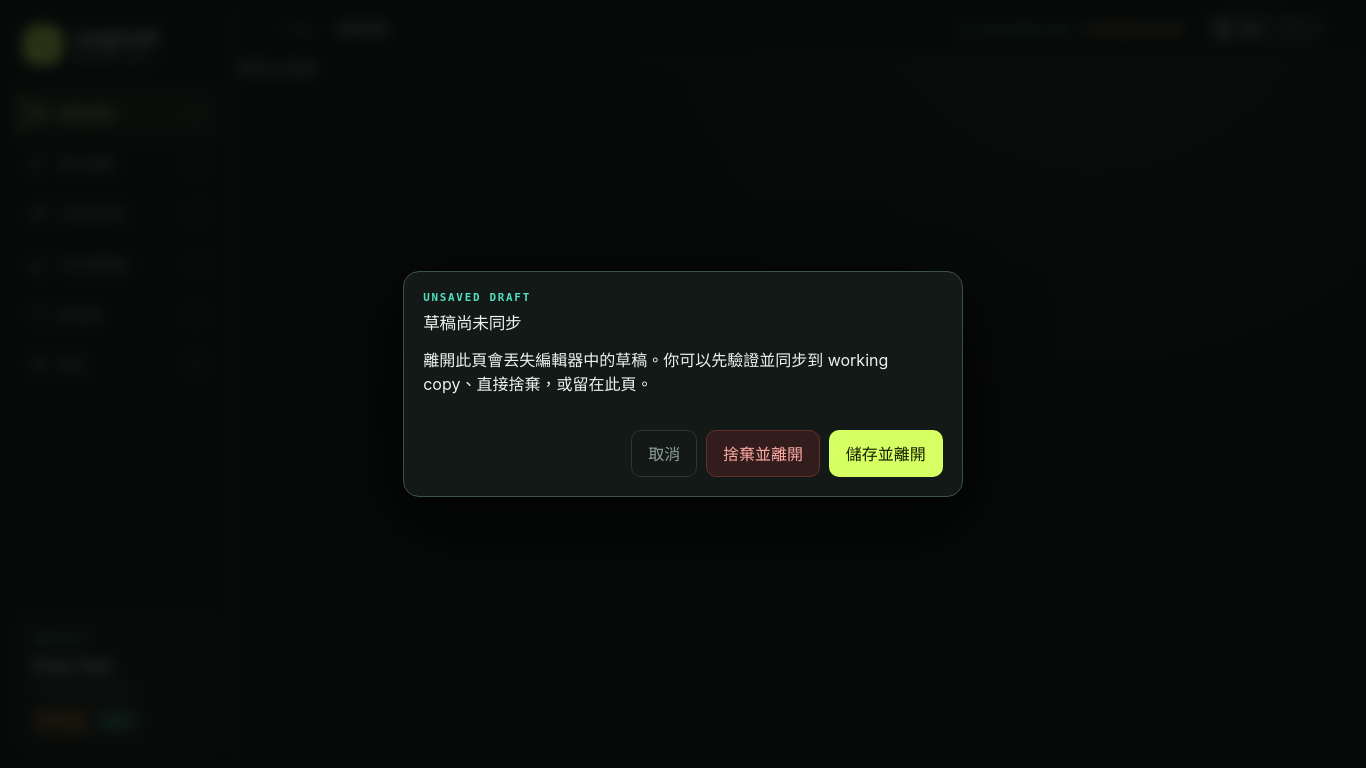
Shell desktop commands › blocks browser history navigation while a local draft is dirty
The width and height of the screenshot is (1366, 768).
Expected: the heading "草稿尚未同步" is shown, x1=423 y1=313 x2=522 y2=333
Click the button "捨棄並離開". click: click(763, 453)
box: x1=706 y1=430 x2=820 y2=477
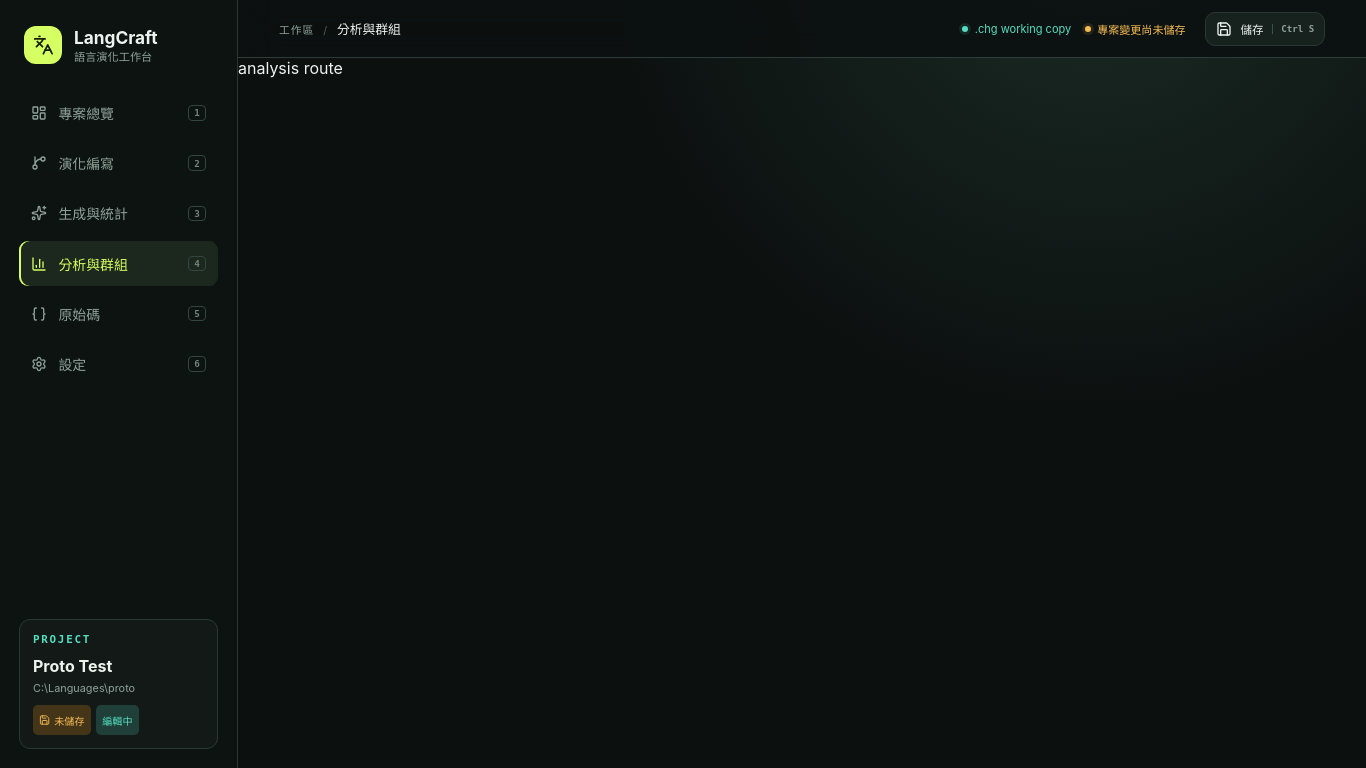
Now the text "analysis route" is shown, box x1=238 y1=58 x2=343 y2=78
